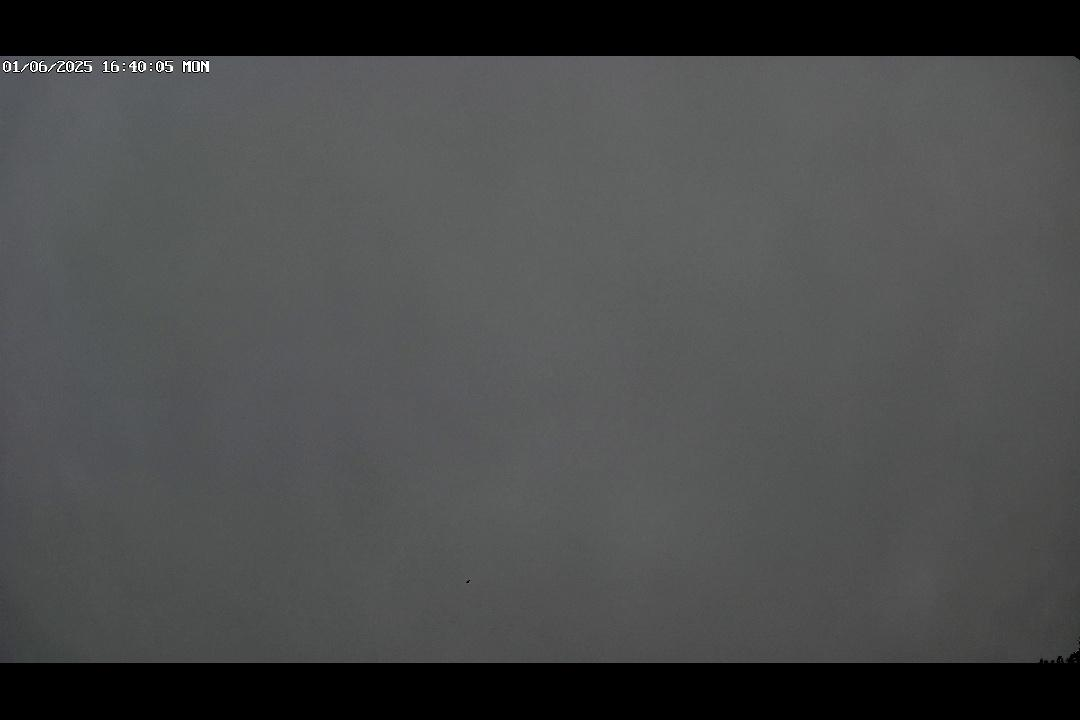WildLife: (461, 575, 476, 587)
